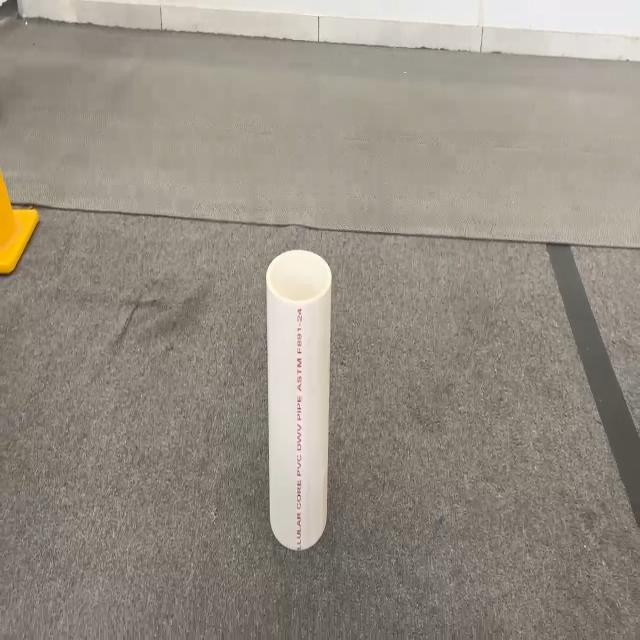coral: (265, 248, 332, 550)
